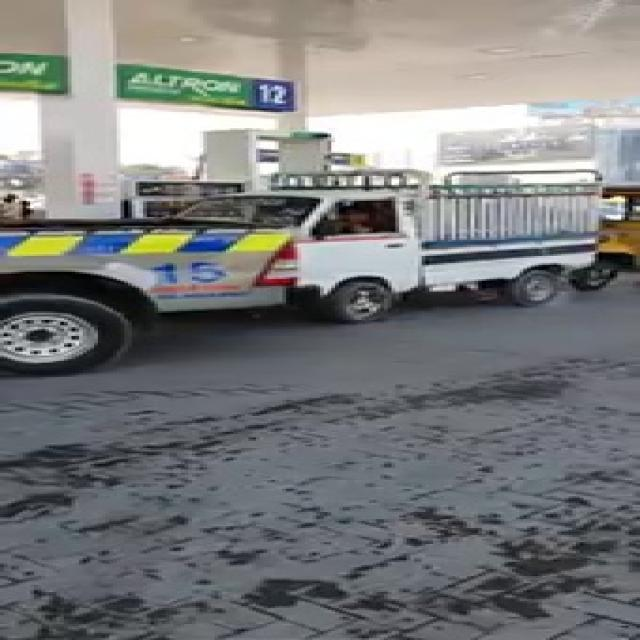police: (0, 200, 338, 385)
